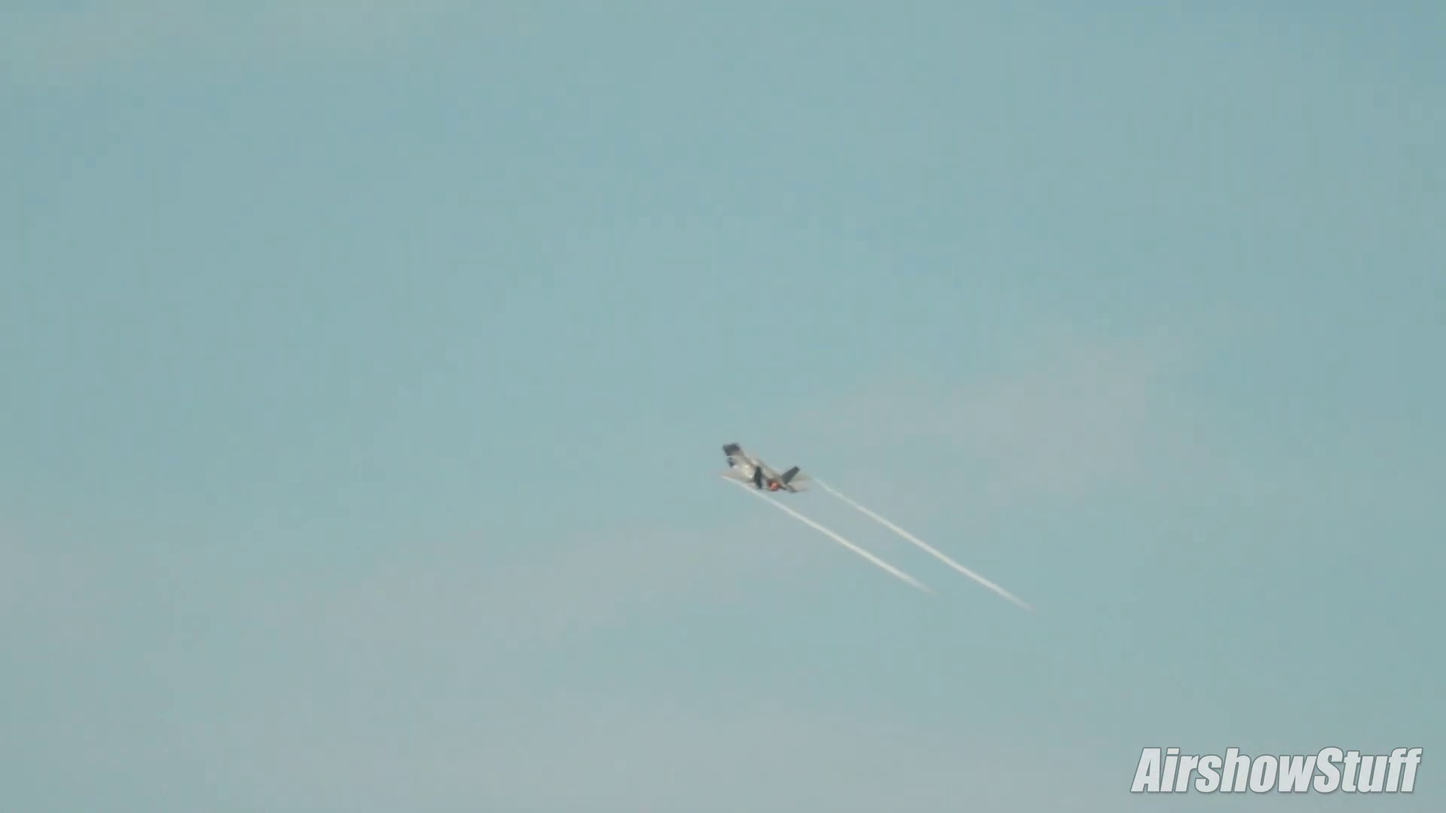F35: (707, 439, 813, 497)
